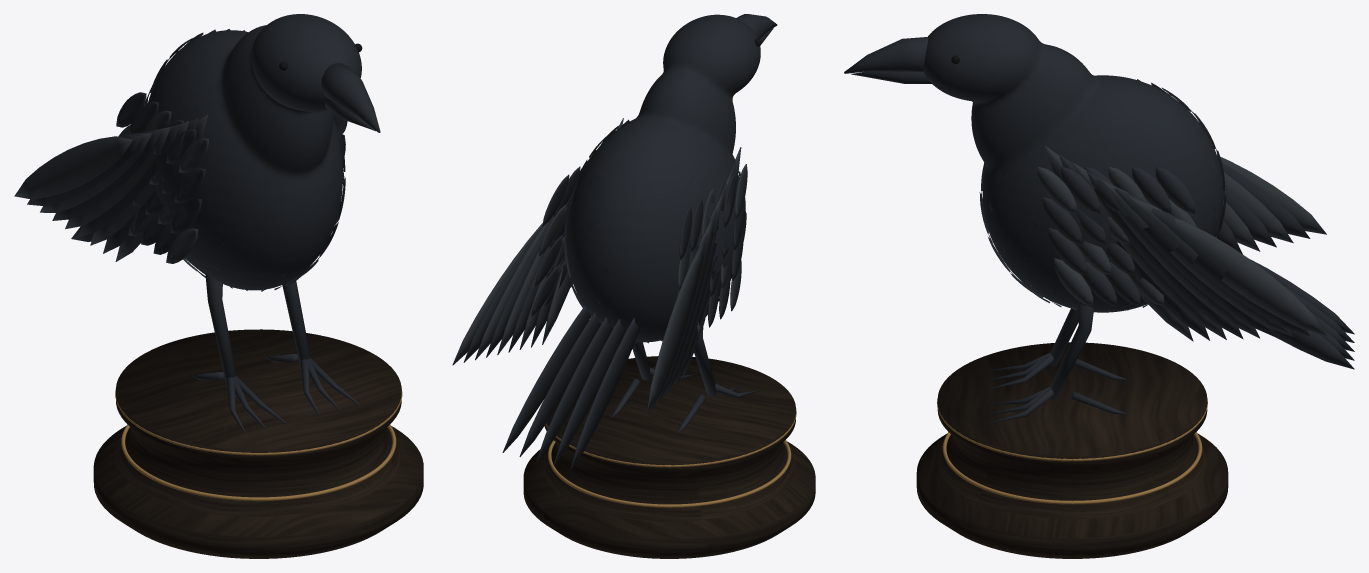
The model's file is gotico_estatua_corvo.glb.
3 views of the same model, side by side, from view 1: azimuth 30°, elevation 25°; view 2: azimuth 150°, elevation 25°; view 3: azimuth 270°, elevation 25° (orthographic). The views are drawn at different scales.
Visible parts, largest first — view 1: estatua_corvo; view 2: estatua_corvo; view 3: estatua_corvo.
Boxes of the visible parts, left/top/right/bottom form: estatua_corvo: left=14, top=14, right=423, bottom=558; estatua_corvo: left=452, top=14, right=815, bottom=558; estatua_corvo: left=844, top=14, right=1354, bottom=558.
Bounding box in the file's own units: 0.224 × 0.3818 × 0.3674.
5 materials, 1 textured.
